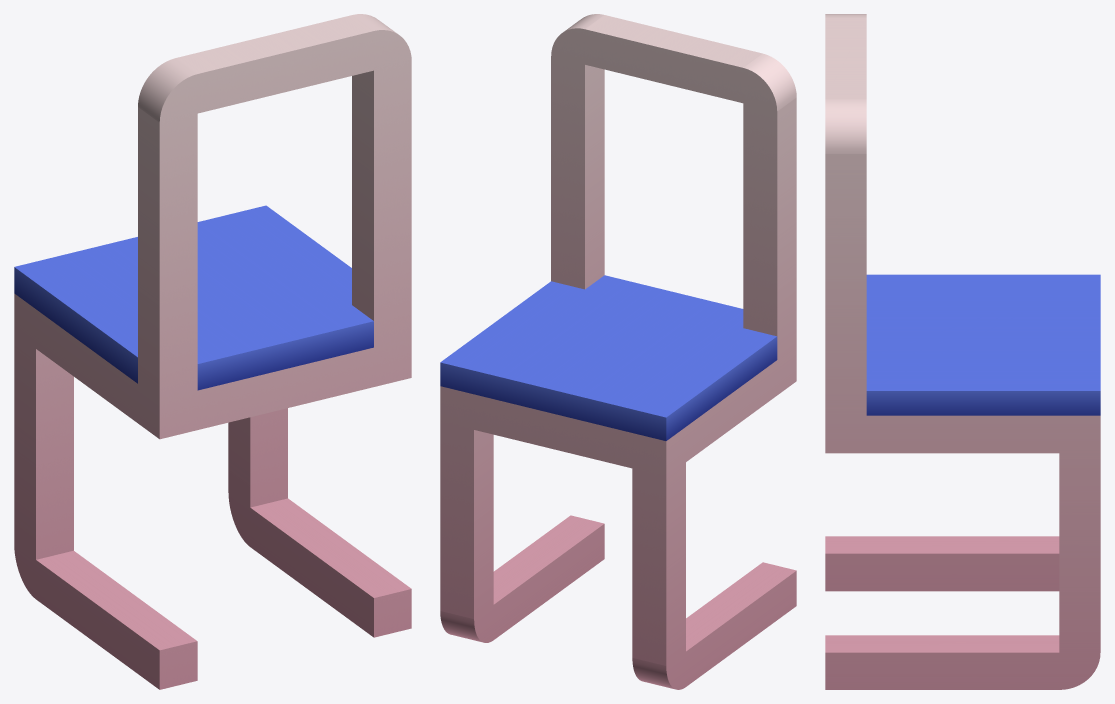
Rendered from chairModernFrameCushion.fbx.
The picture shows the model from 3 angles, left to right: view 1: azimuth 30°, elevation 25°; view 2: azimuth 150°, elevation 25°; view 3: azimuth 270°, elevation 25°; orthographic projection. The views are drawn at different scales.
Visible parts, largest first — view 1: chairModernFrameCushion2; view 2: chairModernFrameCushion2; view 3: chairModernFrameCushion2.
Boxes of the visible parts, x1=… form: chairModernFrameCushion2: x1=14, y1=14, x2=411, y2=689; chairModernFrameCushion2: x1=440, y1=14, x2=796, y2=689; chairModernFrameCushion2: x1=825, y1=14, x2=1100, y2=689.
Size of the model in its own units: 60.04 by 138 by 60.04.
